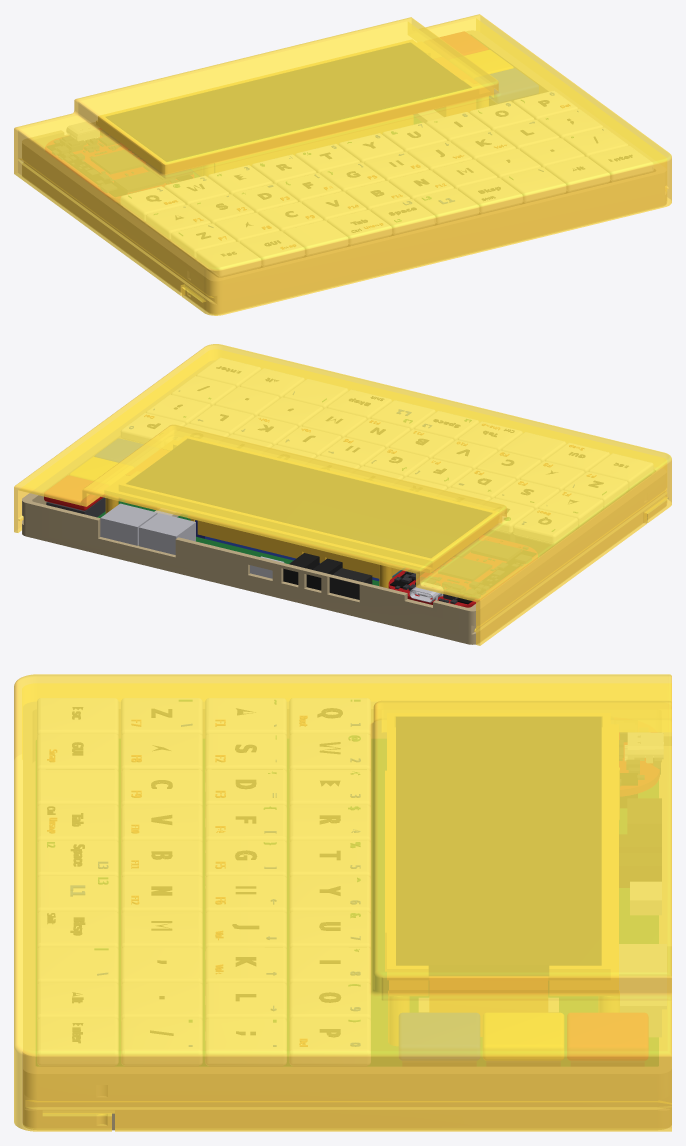
Rendered from cover_sand.glb.
3 views of the same model, one above another, from view 1: azimuth 30°, elevation 25°; view 2: azimuth 150°, elevation 25°; view 3: azimuth 270°, elevation 25° (orthographic). The views are drawn at different scales.
Parts seen in each view (by area): view 1: Lid, Internals, Tray; view 2: Lid, Internals, Tray; view 3: Lid, Internals, Tray.
Boxes of the visible parts, x1=… form: Lid: x1=14, y1=14, x2=671, y2=315; Internals: x1=45, y1=32, x2=652, y2=276; Tray: x1=22, y1=31, x2=665, y2=314; Lid: x1=14, y1=344, x2=671, y2=645; Internals: x1=44, y1=358, x2=652, y2=607; Tray: x1=22, y1=361, x2=665, y2=644; Lid: x1=14, y1=674, x2=671, y2=1131; Internals: x1=36, y1=698, x2=666, y2=1065; Tray: x1=23, y1=702, x2=671, y2=1130.
Bounding box in the file's own units: 0.1818 × 0.0232 × 0.133.
